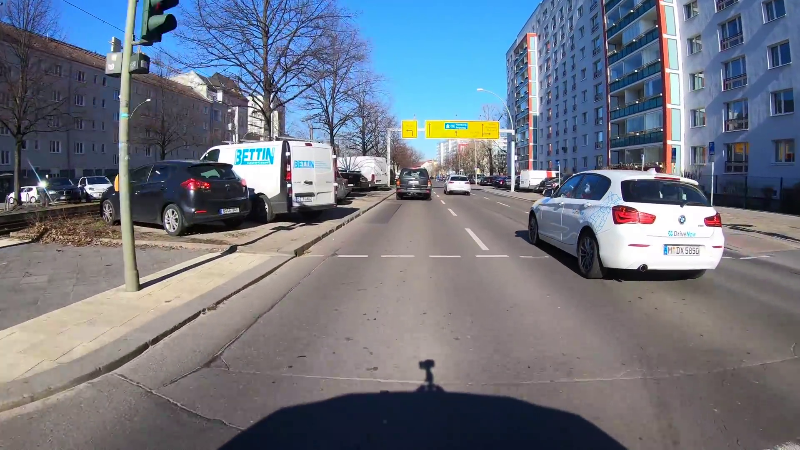Plate: (662, 244, 700, 254), (218, 203, 239, 215)
